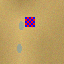person: (18, 21, 23, 30), (17, 44, 22, 53)
